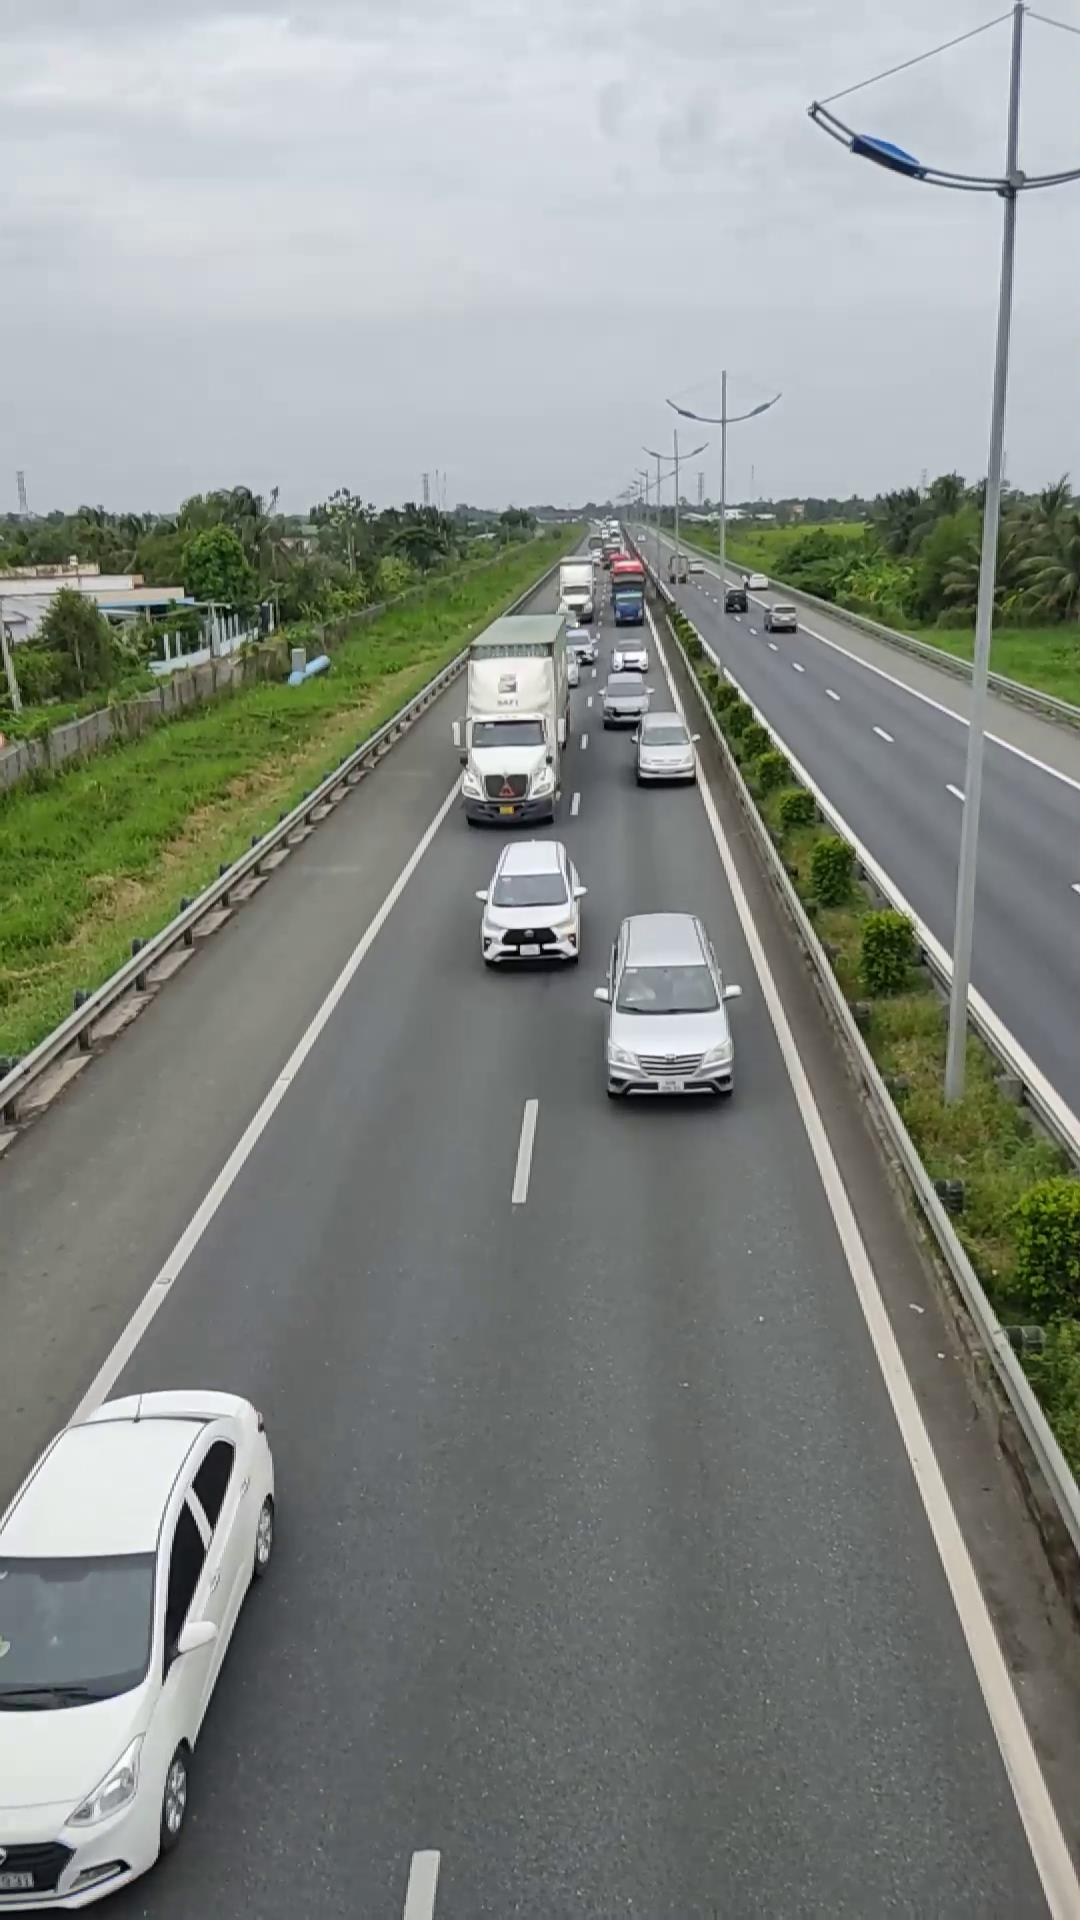car: (0, 1385, 280, 1911), (597, 909, 737, 1101), (475, 837, 585, 967), (633, 709, 700, 785)
container: (454, 607, 574, 825)
